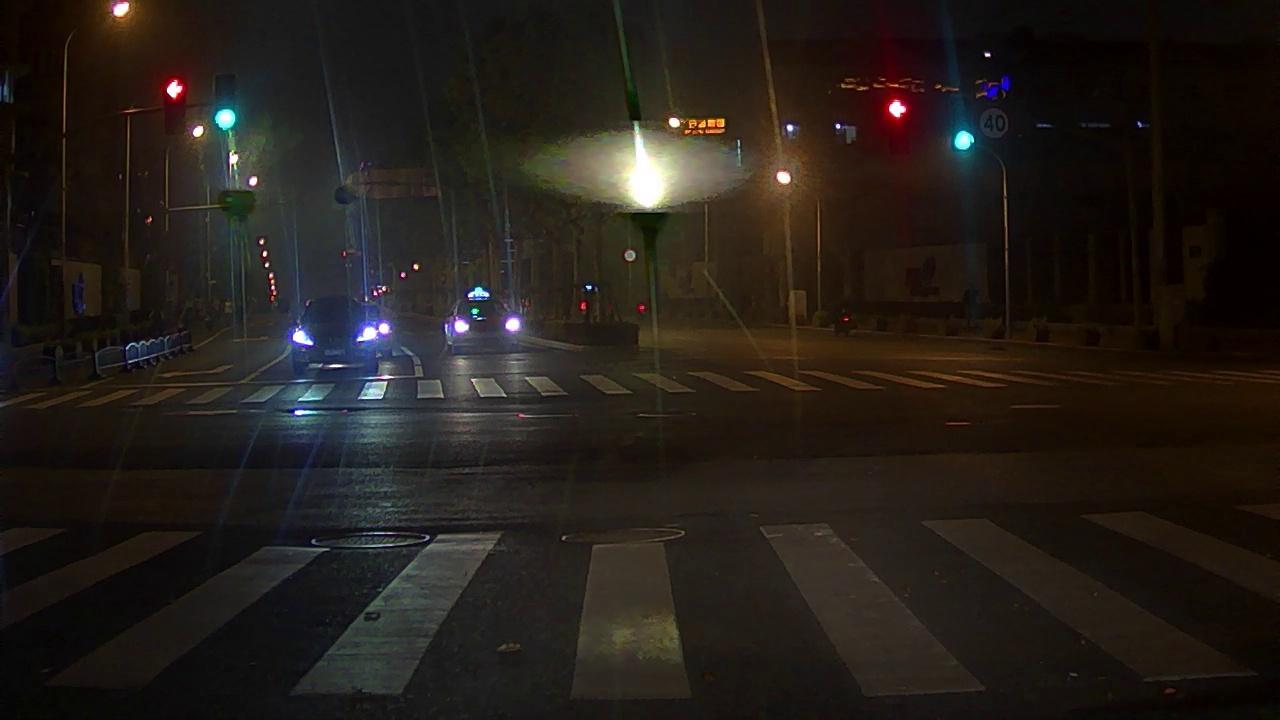traffic_light: (214, 77, 235, 131), (166, 81, 185, 133), (953, 132, 975, 151), (888, 100, 906, 118)
